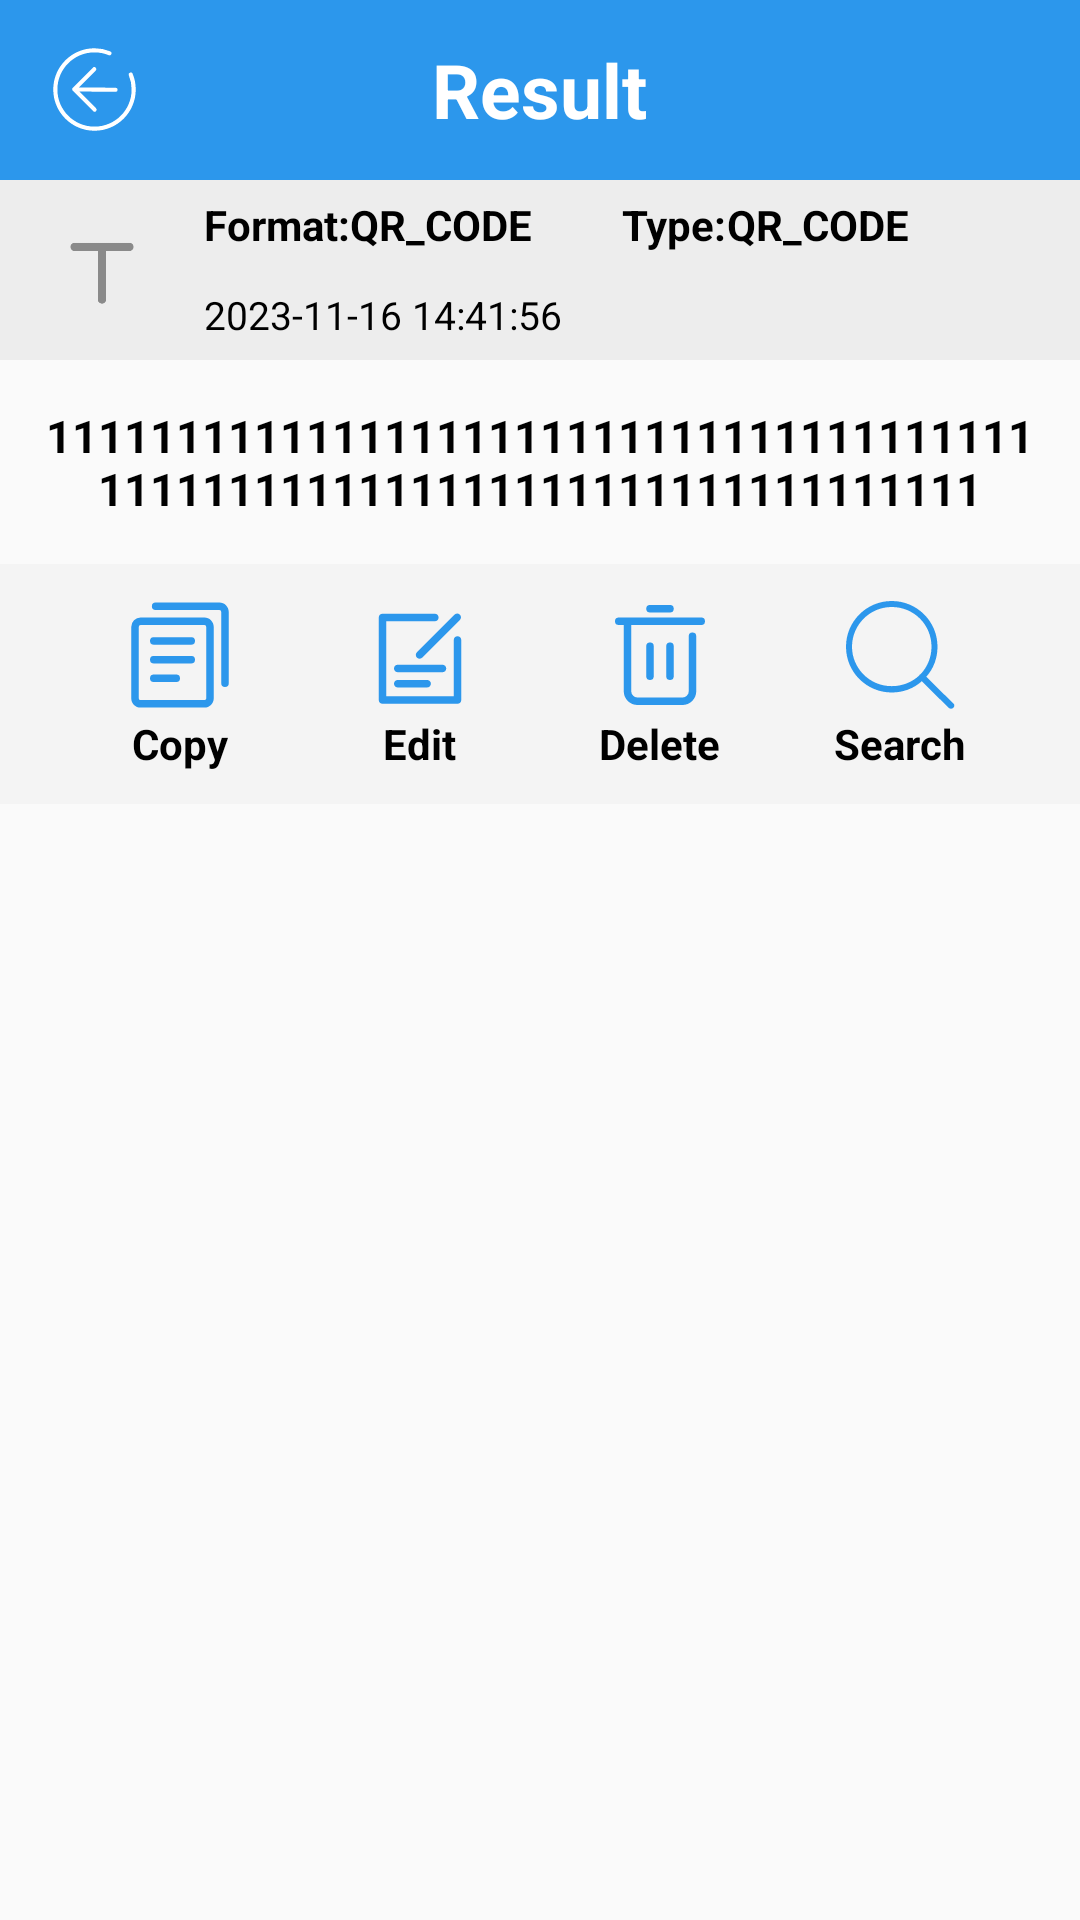

Icons on this 1080 x 1920 Android screen, each with the point to tap as (x=x, y=y):
back: (x=94, y=89)
text: (x=102, y=273)
